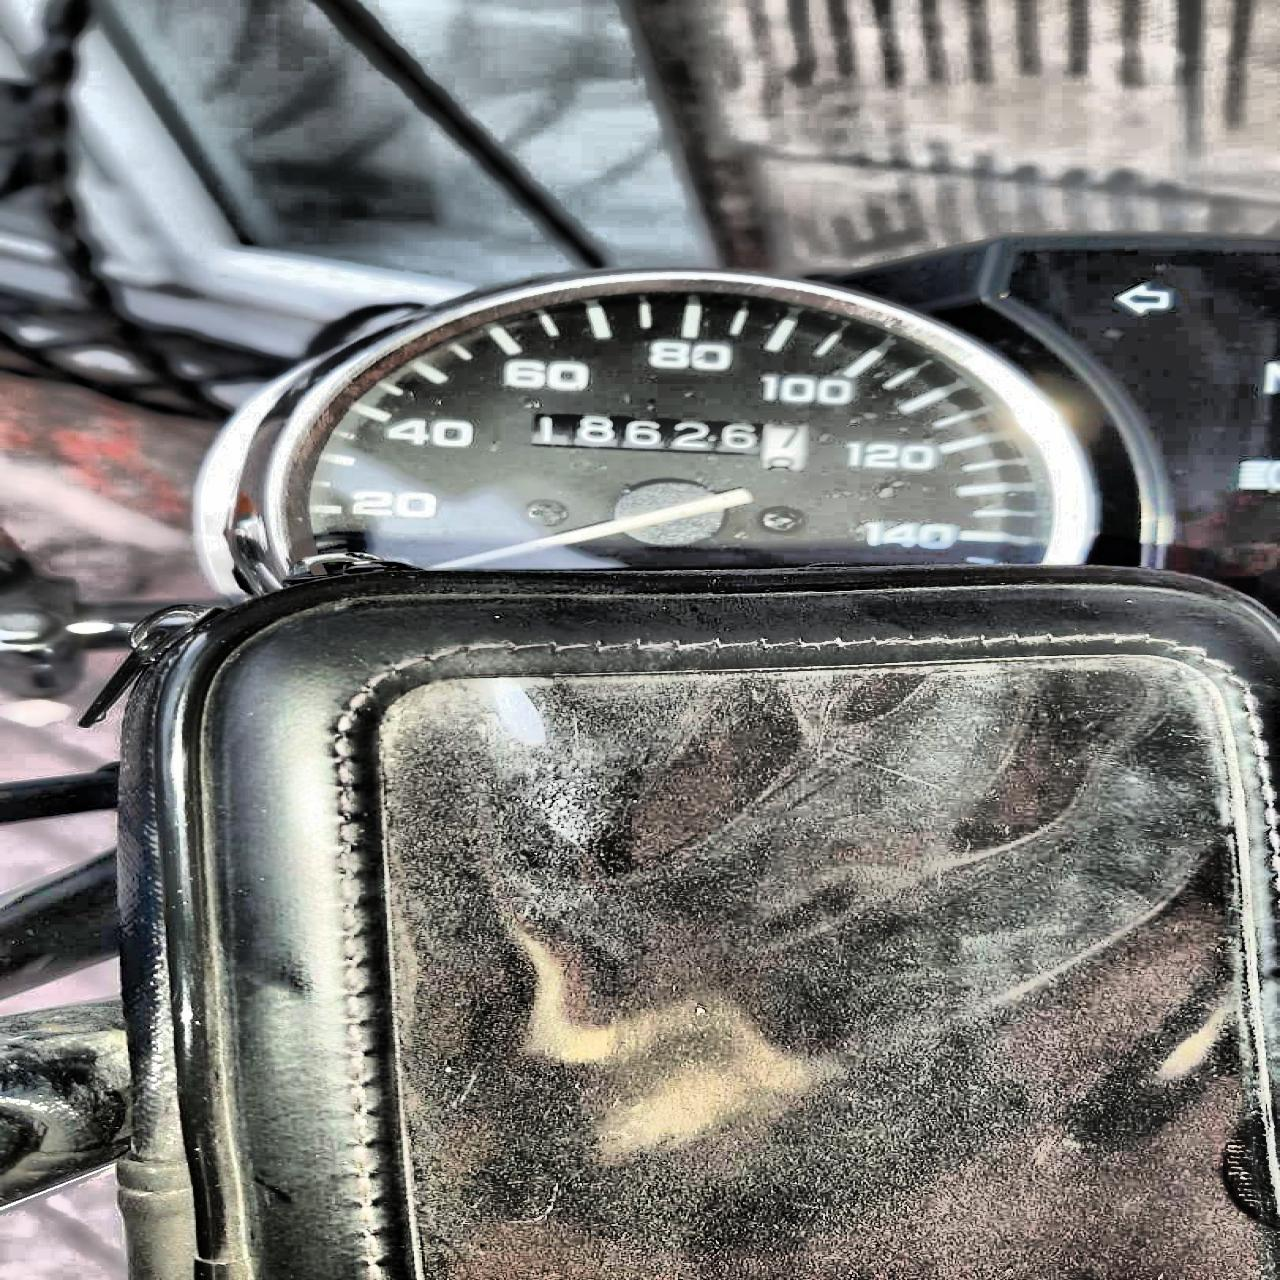1: (535, 411, 561, 455)
2: (668, 421, 709, 452)
6: (622, 416, 659, 448), (719, 421, 757, 449)
7: (768, 421, 803, 452)
8: (573, 413, 612, 448)
odometer: (522, 409, 822, 475)
